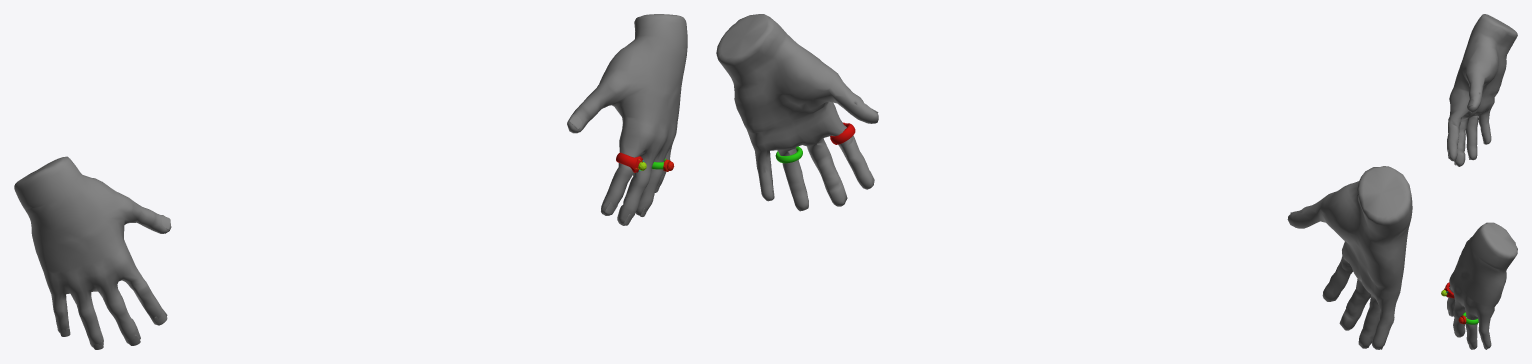
File: handen.fbx
3 renders of one model, left to right at view 1: azimuth 30°, elevation 25°; view 2: azimuth 150°, elevation 25°; view 3: azimuth 270°, elevation 25°, orthographic. The views are drawn at different scales.
Visible parts, largest first — view 1: BSurfaceMesh.001, BSurfaceMesh; view 2: BSurfaceMesh, BSurfaceMesh.001; view 3: BSurfaceMesh.001, BSurfaceMesh, Torus, Torus.001.
Part boxes in pixels (x1,y1,x2,y2): BSurfaceMesh.001: (14,156,171,347); BSurfaceMesh: (567,14,687,225); BSurfaceMesh: (716,14,878,211); BSurfaceMesh.001: (1287,166,1412,349); BSurfaceMesh.001: (1447,14,1517,166); BSurfaceMesh: (1447,222,1517,349); Torus: (1444,282,1454,298); Torus.001: (1462,312,1478,324).
Size of the model in its own units: 0.1321 by 0.0357 by 0.0186.
